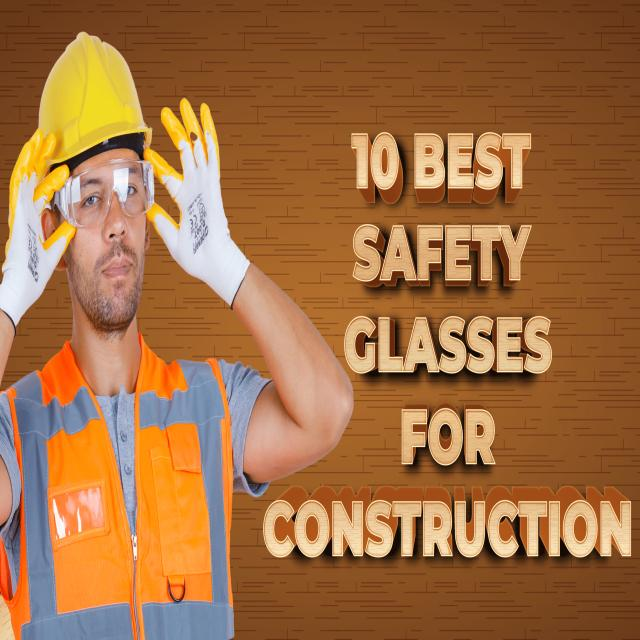goggles: (61, 160, 155, 229)
helmet: (40, 42, 154, 154)
